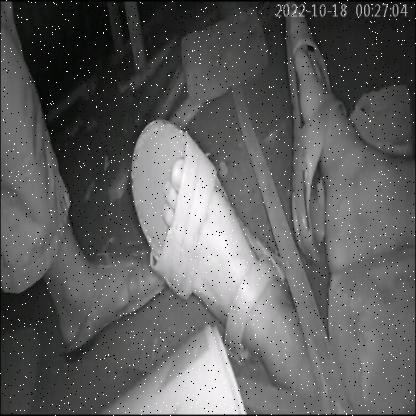leg: (127, 114, 302, 389), (276, 5, 416, 272), (38, 230, 170, 365)
